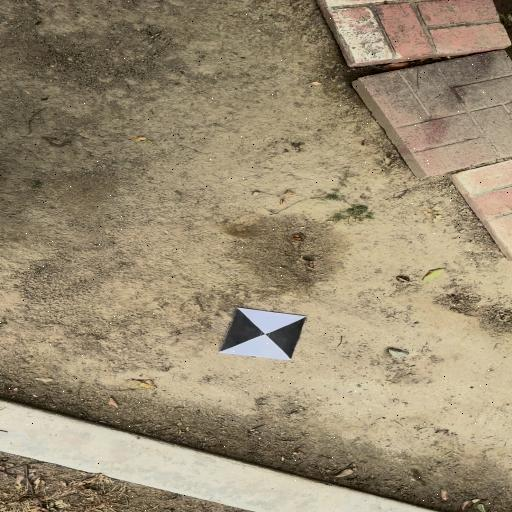target: (218, 308, 306, 359)
